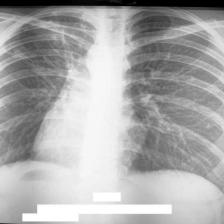tuberculosis: (0, 7, 224, 191)
